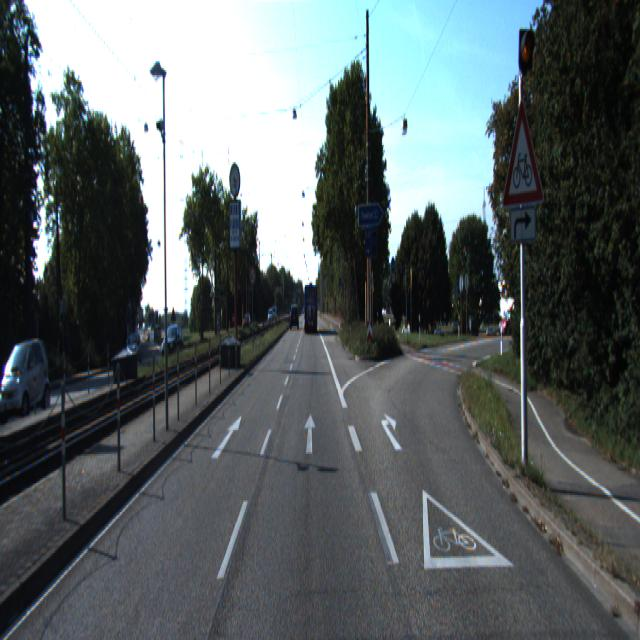Car: (0, 339, 56, 424), (304, 284, 318, 334)
